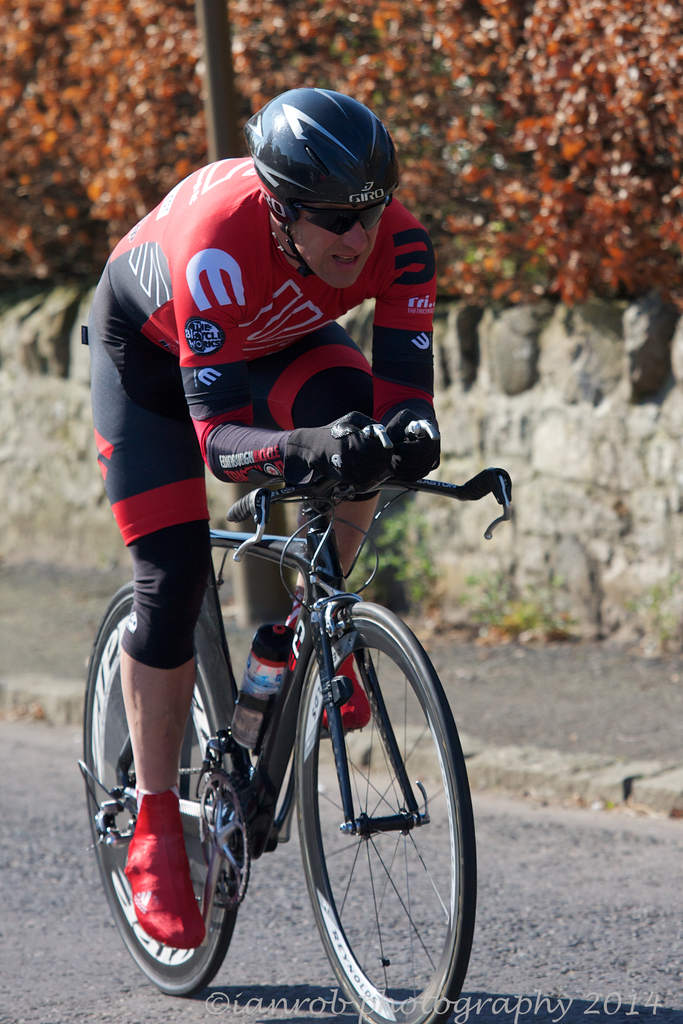Bike_toward: (76, 429, 519, 1019)
